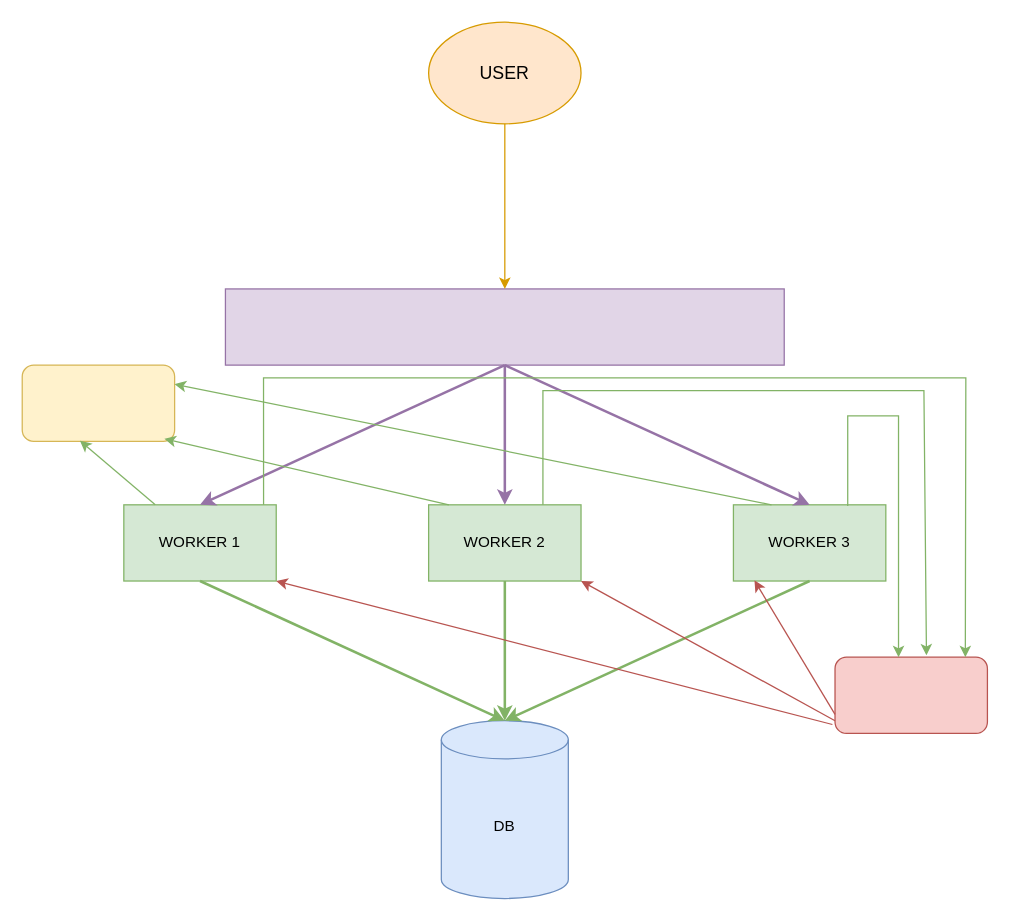
Image size: 1010x921. Some labels were removed from this diagram. Each missing label, with the box of its shape:
Distributed Cache: (834, 656, 987, 733)
LOAD BALANCER: (224, 288, 784, 365)
Range Zookeeper: (21, 364, 175, 441)
